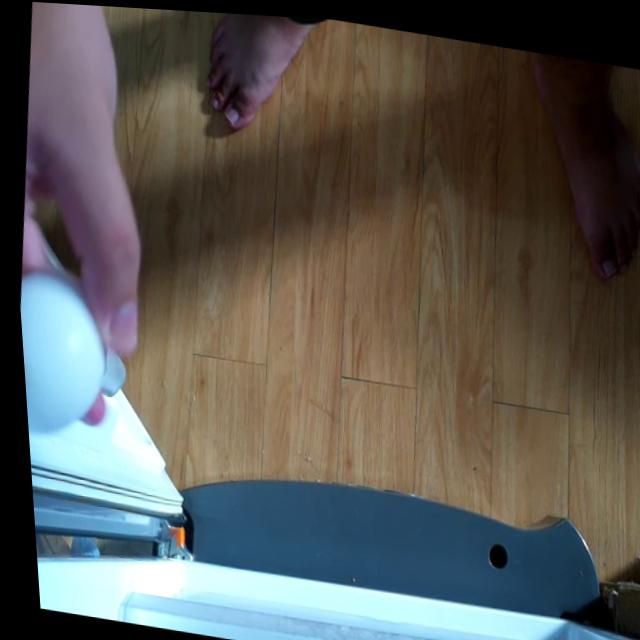egg: (14, 266, 111, 441)
